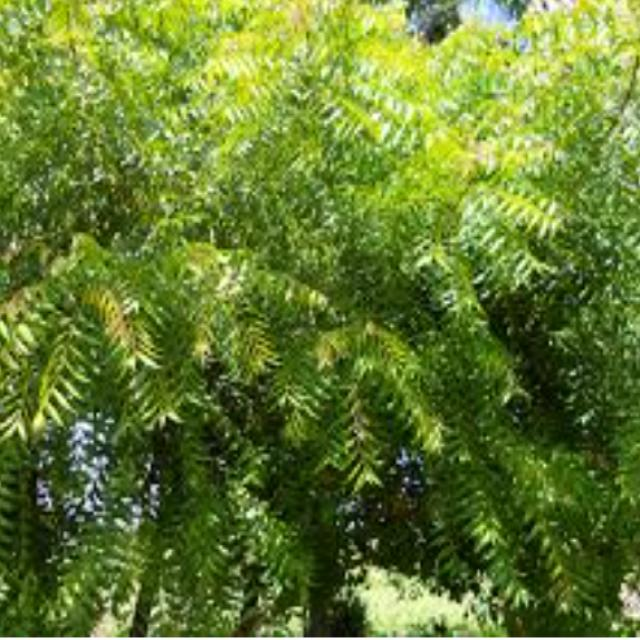Neem-Tree: (69, 37, 620, 554)
